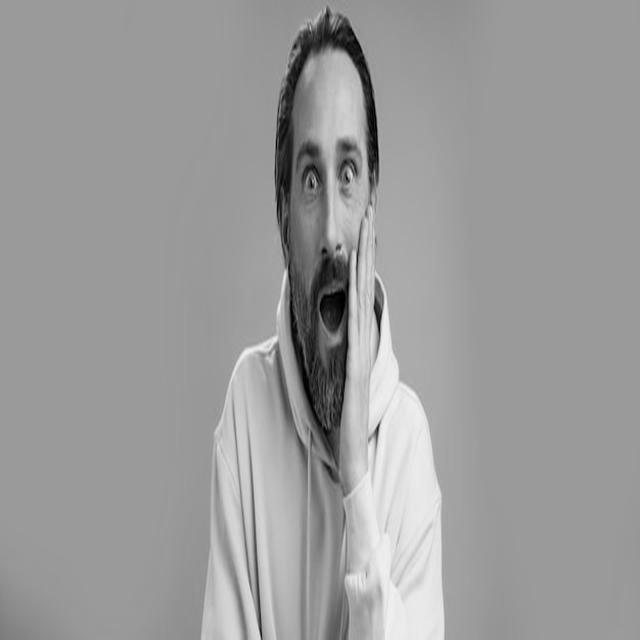Surprised: (289, 51, 370, 428)
